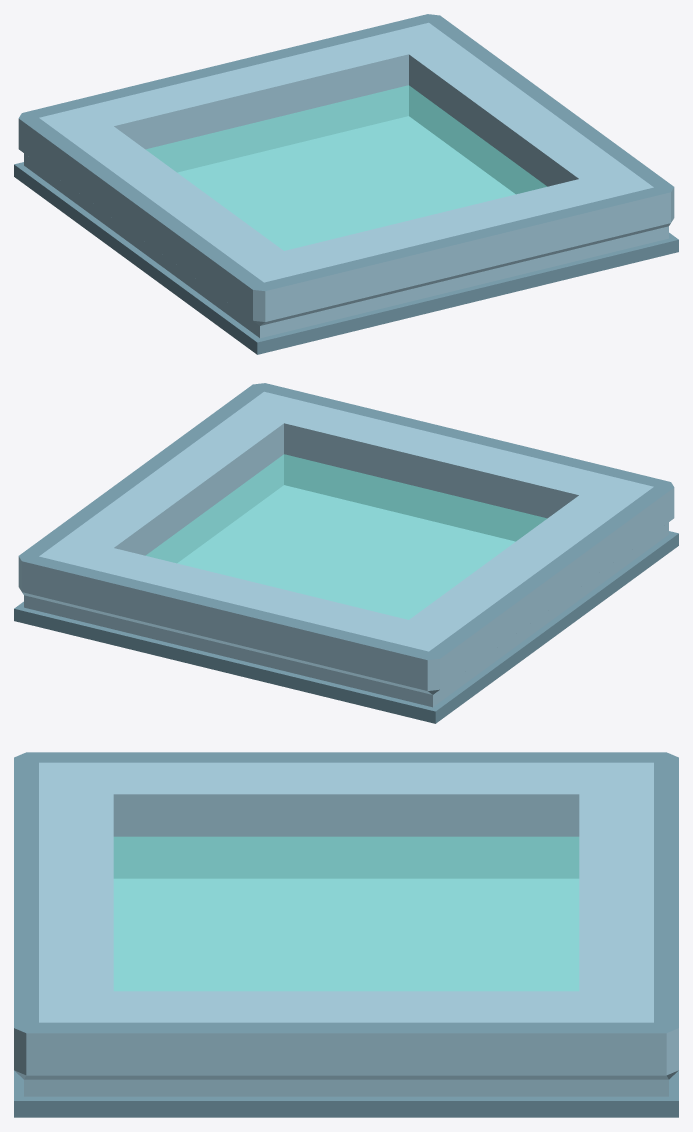
Rendered from fountainSquare.glb.
3 views of the same model, one above another, from view 1: azimuth 30°, elevation 25°; view 2: azimuth 150°, elevation 25°; view 3: azimuth 270°, elevation 25° (orthographic). The views are drawn at different scales.
Visible parts, largest first — view 1: fountainSquare; view 2: fountainSquare; view 3: fountainSquare.
Boxes of the visible parts, x1,y1,x2,y2 form: fountainSquare: (14,14,678,354); fountainSquare: (14,383,678,723); fountainSquare: (14,752,678,1117).
Bounding box in the file's own units: 6 × 0.84 × 6.
